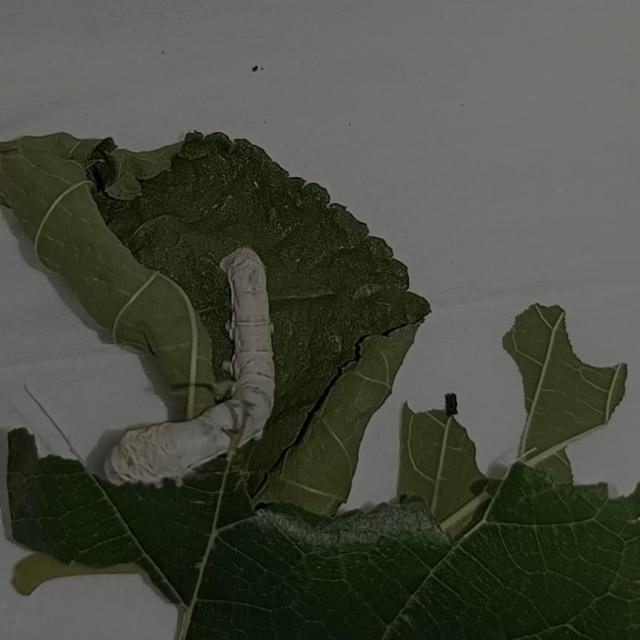Healthy: (88, 224, 329, 531)
